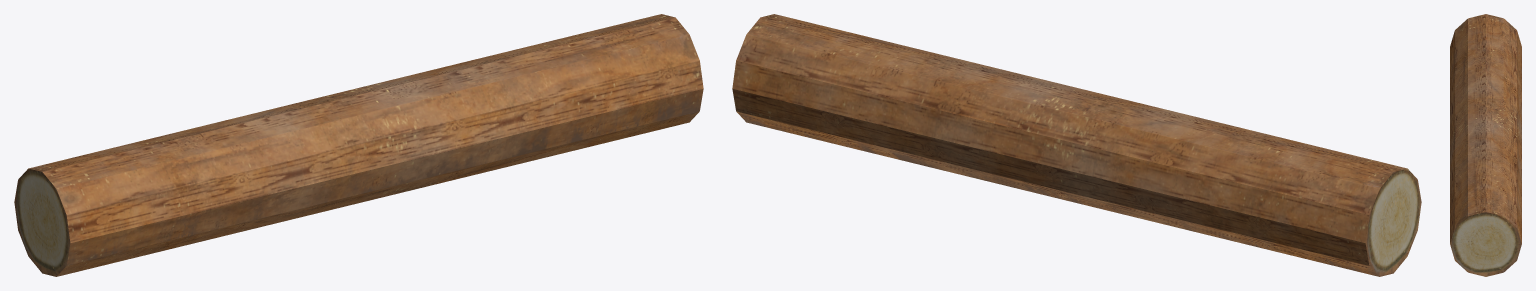
The model's file is log1.fbx.
3 views of the same model, side by side, from view 1: azimuth 30°, elevation 25°; view 2: azimuth 150°, elevation 25°; view 3: azimuth 270°, elevation 25° (orthographic). The views are drawn at different scales.
Visible parts, largest first — view 1: Cylinder; view 2: Cylinder; view 3: Cylinder.
Boxes of the visible parts, x1,y1,x2,y2 form: Cylinder: (14,14,703,276); Cylinder: (732,14,1421,276); Cylinder: (1450,14,1521,276).
Bounding box in the file's own units: 762 × 117 × 117.
1 material, 1 textured.
